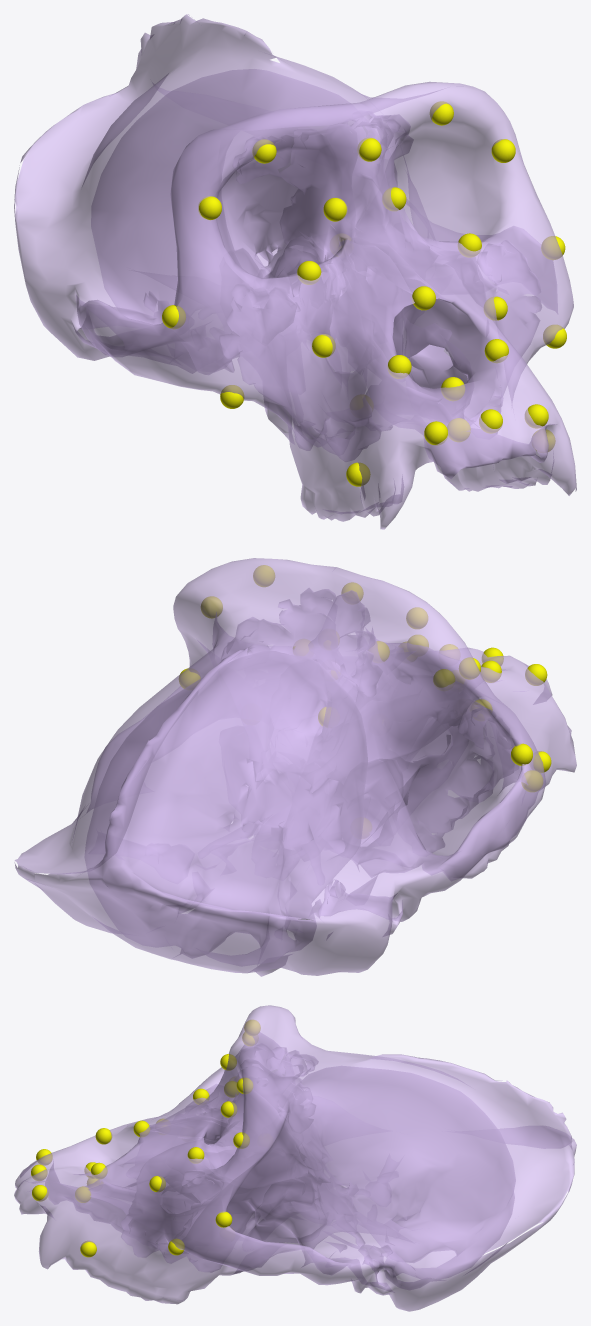
File: NewFolder.gltf
The picture shows the model from 3 angles, top to bottom: view 1: azimuth 30°, elevation 25°; view 2: azimuth 150°, elevation 25°; view 3: azimuth 270°, elevation 25°; orthographic projection. The views are drawn at different scales.
Parts seen in each view (by area): view 1: Gor_template_low_res; view 2: Gor_template_low_res; view 3: Gor_template_low_res.
Boxes of the visible parts, x1,y1,x2,y2 form: Gor_template_low_res: (14,14,576,529); Gor_template_low_res: (14,558,576,976); Gor_template_low_res: (14,1005,576,1311).
Bounding box in the file's own units: 162 × 131 × 269.
